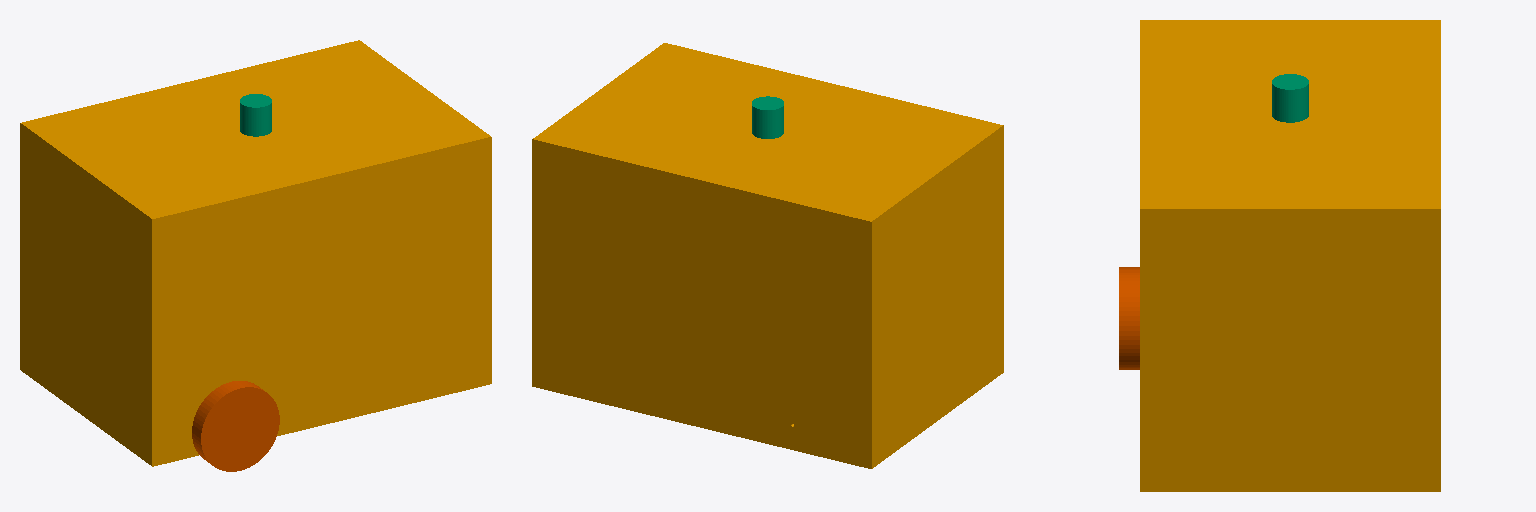
The robot description file, URDF, robot "cargo_bot":
<?xml version="1.0" ?>
<!-- =================================================================================== -->
<!-- |    This document was autogenerated by xacro from src/cargo_bot_description/urdf/cargo_bot.urdf.xacro | -->
<!-- |    EDITING THIS FILE BY HAND IS NOT RECOMMENDED                                 | -->
<!-- =================================================================================== -->
<!-- Basic differential drive mobile base -->
<robot name="cargo_bot">
  <link name="base_link">
    <visual>
      <origin rpy="0 0 0" xyz="0 0 0"/>
      <geometry>
        <mesh filename="package://cargo_bot_description/meshes/visual/base_link.stl" scale="0.001 0.001 0.001"/>
      </geometry>
    </visual>
    <collision>
      <origin rpy="0 0 0" xyz="0 0 0"/>
      <geometry>
        <mesh filename="package://cargo_bot_description/meshes/collision/base_link.stl" scale="0.001 0.001 0.001"/>
      </geometry>
    </collision>
    <inertial>
      <mass value="2.5"/>
      <inertia ixx="0.03627083333333333" ixy="0.0" ixz="0.0" iyy="0.057270833333333326" iyz="0.0" izz="0.056041666666666656"/>
    </inertial>
    <!--  cambiar valores -->
  </link>
  <link name="base_footprint"/>
  <joint name="base_footprint_joint" type="fixed">
    <parent link="base_footprint"/>
    <child link="base_link"/>
    <origin rpy="0 0 0" xyz="0 0 0.02"/>
  </joint>
  <link name="lidar_link">
    <visual>
      <geometry>
        <mesh filename="package://cargo_bot_description/meshes/visual/lidar.stl" scale="0.001 0.001 0.001"/>
      </geometry>
    </visual>
    <collision>
      <geometry>
        <mesh filename="package://cargo_bot_description/meshes/collision/lidar.stl" scale="0.001 0.001 0.001"/>
      </geometry>
    </collision>
    <inertial>
      <mass value="0.045"/>
      <inertia ixx="1.8375000000000003e-05" ixy="0.0" ixz="0.0" iyy="1.8375000000000003e-05" iyz="0.0" izz="2.7562500000000002e-05"/>
    </inertial>
  </link>
  <joint name="lidar_joint" type="fixed">
    <parent link="base_link"/>
    <child link="lidar_link"/>
    <origin rpy="0 0 0" xyz="0 0 0.3"/>
  </joint>
  <link name="imu_link"/>
  <joint name="imu_joint" type="fixed">
    <parent link="base_link"/>
    <child link="imu_link"/>
    <origin rpy="0 0 0" xyz="0 0 0"/>
  </joint>
  <link name="left_wheel_link">
    <visual>
      <geometry>
        <mesh filename="package://cargo_bot_description/meshes/visual/left_wheel.stl" scale="0.001 0.001 0.001"/>
      </geometry>
    </visual>
    <collision>
      <geometry>
        <mesh filename="package://cargo_bot_description/meshes/collision/left_wheel.stl" scale="0.001 0.001 0.001"/>
      </geometry>
    </collision>
    <inertial>
      <mass value="0.2"/>
      <inertia ixx="0.0005066666666666668" ixy="0.0" ixz="0.0" iyy="0.0005066666666666668" iyz="0.0" izz="0.0010000000000000002"/>
    </inertial>
  </link>
  <joint name="left_wheel_joint" type="continuous">
    <parent link="base_link"/>
    <child link="left_wheel_link"/>
    <origin rpy="1.5707963267948966 0  0" xyz="-0.115 0.16499999999999998 0.03"/>
    <axis xyz="0 0 1"/>
  </joint>
  <link name="right_wheel_link">
    <visual>
      <geometry>
        <mesh filename="package://cargo_bot_description/meshes/visual/right_wheel.stl" scale="0.001 0.001 0.001"/>
      </geometry>
    </visual>
    <collision>
      <geometry>
        <mesh filename="package://cargo_bot_description/meshes/collision/right_wheel.stl" scale="0.001 0.001 0.001"/>
      </geometry>
    </collision>
    <inertial>
      <mass value="0.2"/>
      <inertia ixx="0.0005066666666666668" ixy="0.0" ixz="0.0" iyy="0.0005066666666666668" iyz="0.0" izz="0.0010000000000000002"/>
    </inertial>
  </link>
  <joint name="right_wheel_joint" type="continuous">
    <parent link="base_link"/>
    <child link="right_wheel_link"/>
    <origin rpy="1.5707963267948966 0  0" xyz="-0.115 -0.145 0.03"/>
    <axis xyz="0 0 1"/>
  </joint>
  <link name="caster_wheel_link">
    <visual>
      <geometry>
        <mesh filename="package://cargo_bot_description/meshes/visual/caster_wheel.stl" scale="0.001 0.001 0.001"/>
      </geometry>
    </visual>
    <collision>
      <geometry>
        <mesh filename="package://cargo_bot_description/meshes/collision/caster_wheel.stl" scale="0.001 0.001 0.001"/>
      </geometry>
    </collision>
    <inertial>
      <mass value="0.1"/>
      <inertia ixx="1.6000000000000003e-05" ixy="0.0" ixz="0.0" iyy="1.6000000000000003e-05" iyz="0.0" izz="1.6000000000000003e-05"/>
    </inertial>
  </link>
  <joint name="caster_wheel_joint" type="fixed">
    <parent link="base_link"/>
    <child link="caster_wheel_link"/>
    <origin rpy="-1.5707963267948966 0 0" xyz="0.15 0 0"/>
  </joint>
</robot>

--- Facts derived from the render (not from the file) ---
The picture shows the robot from 3 angles, left to right: view 1: azimuth 30°, elevation 25°; view 2: azimuth 150°, elevation 25°; view 3: azimuth 270°, elevation 25°; orthographic projection.
Model cargo_bot with 7 links and 6 joints (2 continuous, 4 fixed), rooted at base_footprint, posed every joint at zero.
Visible links, largest first — view 1: base_link, right_wheel_link, lidar_link; view 2: base_link, lidar_link; view 3: base_link, right_wheel_link, lidar_link.
Boxes of the visible links, x1=… form: base_link: x1=20, y1=40, x2=491, y2=466; right_wheel_link: x1=192, y1=381, x2=279, y2=471; lidar_link: x1=240, y1=94, x2=271, y2=136; base_link: x1=532, y1=43, x2=1003, y2=468; lidar_link: x1=752, y1=96, x2=783, y2=138; base_link: x1=1140, y1=20, x2=1440, y2=491; right_wheel_link: x1=1119, y1=267, x2=1139, y2=369; lidar_link: x1=1272, y1=74, x2=1308, y2=122.
Size in the robot's own frame: 0.43 by 0.31 by 0.355 metres.
Meshes: 5 distinct files referenced, 4 mesh visuals loaded (4 binary STL); not drawn: 1 (reference not matched to a file when rendering).
